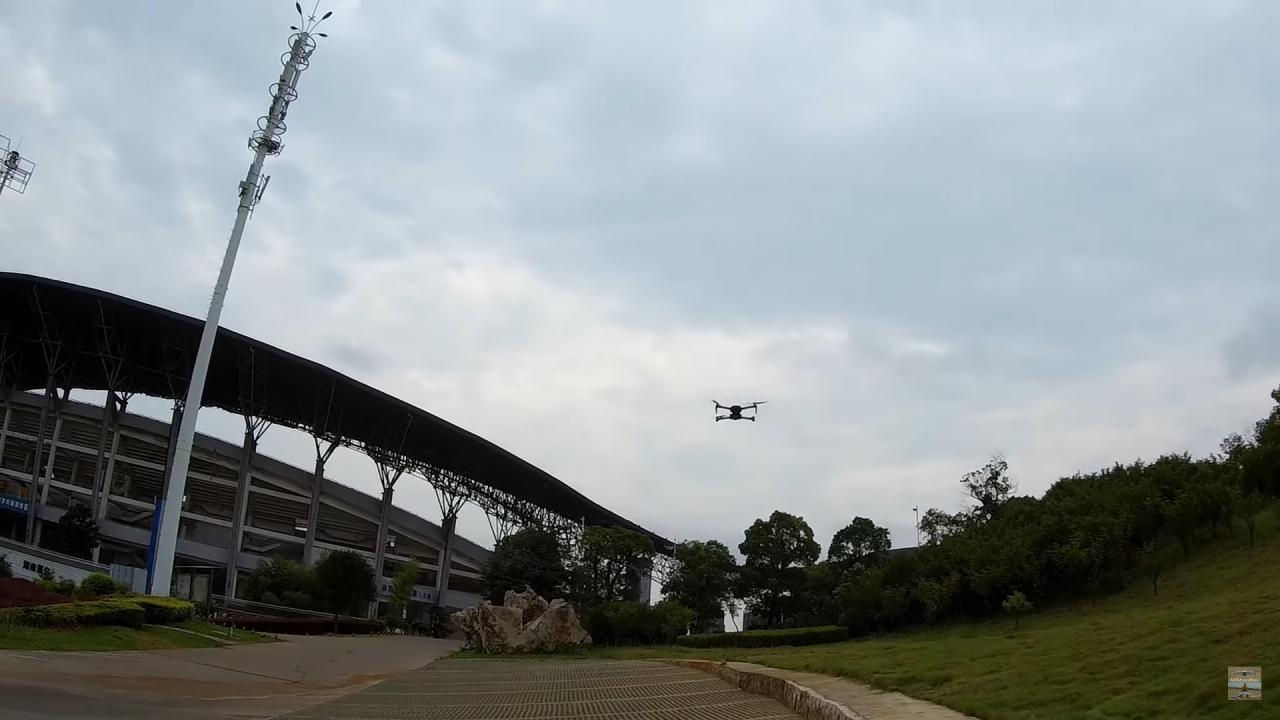Drone: (705, 390, 774, 434)
